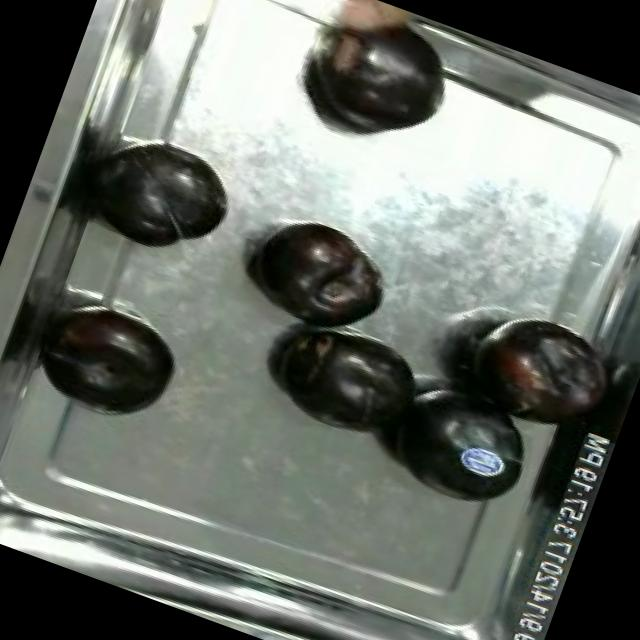Fruit: (450, 292, 638, 452), (257, 306, 447, 462), (368, 369, 548, 529), (76, 118, 250, 277), (284, 2, 460, 158), (230, 200, 406, 349), (28, 285, 197, 438)
